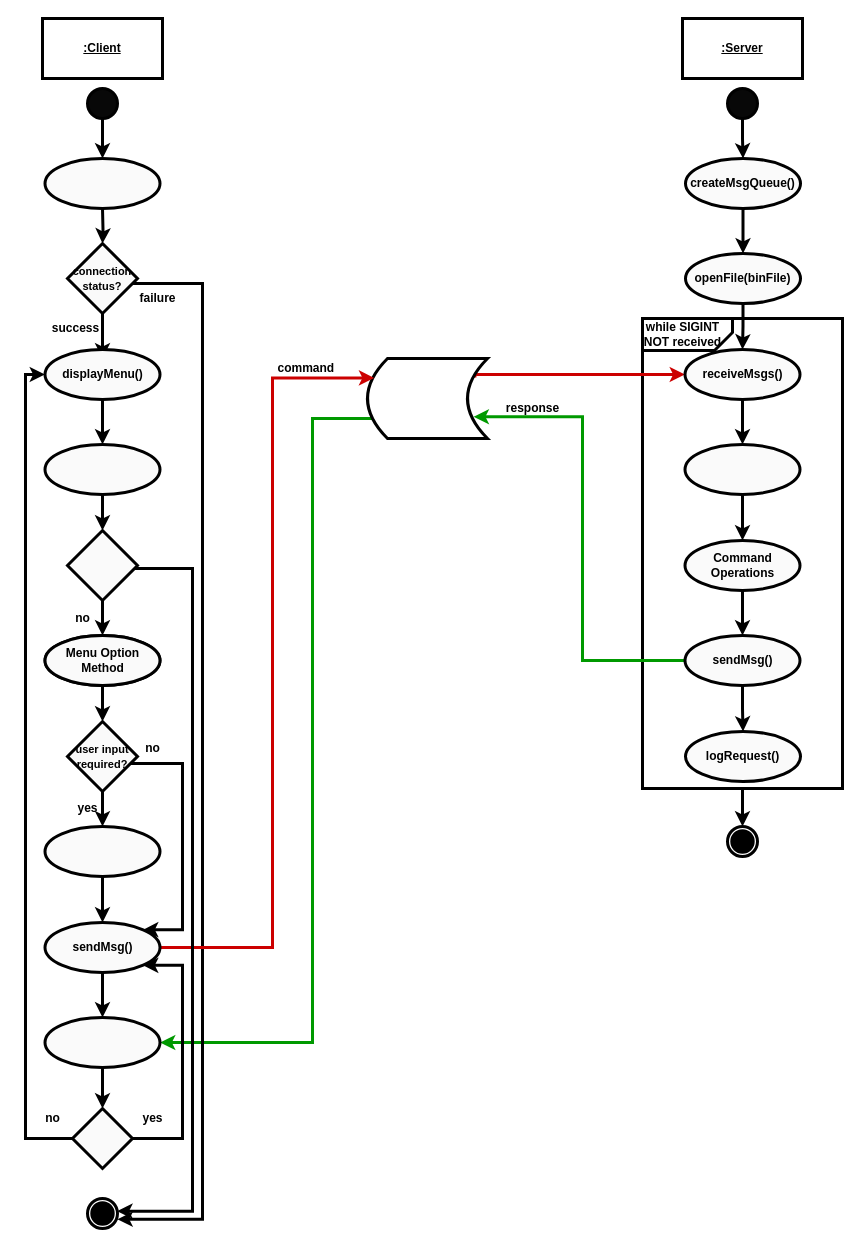
Image size: 861x1247. Some labels were removed from this diagram. The centre of each missing label's shape, as x and y in pixels:
connect(): (x=102, y=183)
exit selected?: (x=102, y=565)
getMenuInput(true): (x=102, y=469)
handleCmd(): (x=742, y=469)
More msgs to send?: (x=102, y=1138)
Msg Queue: (x=427, y=398)
receiveMsg(): (x=102, y=1042)
User Input Method: (x=102, y=851)
